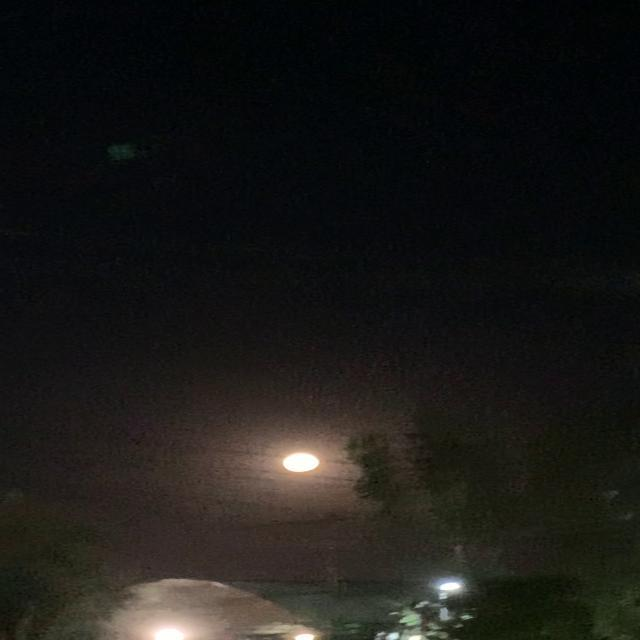moon: (288, 451, 340, 476)
